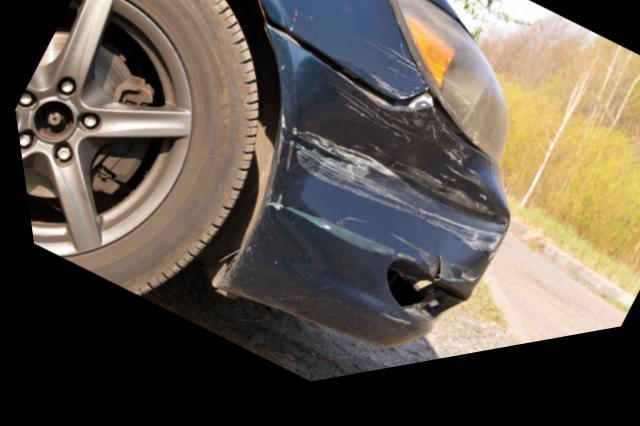crack: (423, 269, 431, 295)
dent: (275, 97, 497, 294)
dislocated part: (267, 26, 429, 129)
no part: (378, 274, 448, 335)
scratch: (351, 50, 424, 112)
